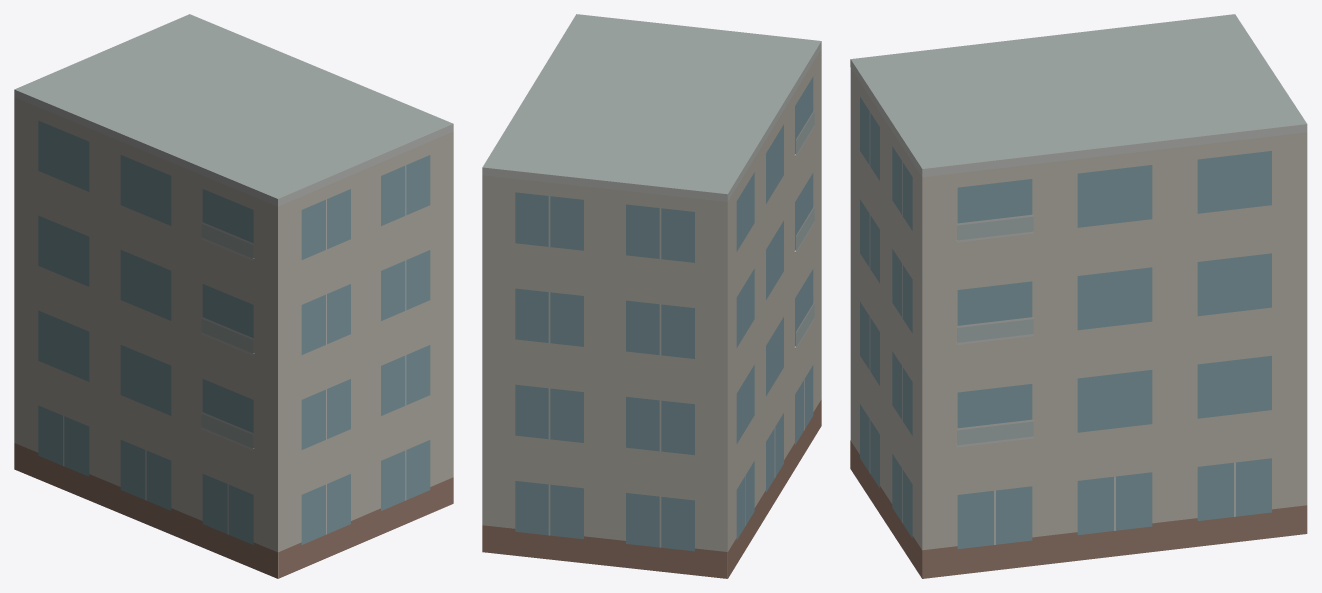
File: residential-12bb2c3c-931e-4e32-857e-e4f4e082f99d.glb
The picture shows the model from 3 angles, left to right: view 1: azimuth 30°, elevation 25°; view 2: azimuth 150°, elevation 25°; view 3: azimuth 270°, elevation 25°; orthographic projection. The views are drawn at different scales.
Visible parts, largest first — view 1: residential-12bb2c3c-931e-4e32-857e-e4f4e082f99d.tmp; view 2: residential-12bb2c3c-931e-4e32-857e-e4f4e082f99d.tmp; view 3: residential-12bb2c3c-931e-4e32-857e-e4f4e082f99d.tmp.
Part boxes in pixels (x1,y1,x2,y2): residential-12bb2c3c-931e-4e32-857e-e4f4e082f99d.tmp: [14, 14, 453, 578]; residential-12bb2c3c-931e-4e32-857e-e4f4e082f99d.tmp: [482, 14, 821, 578]; residential-12bb2c3c-931e-4e32-857e-e4f4e082f99d.tmp: [850, 14, 1307, 578].
Size of the model in its own units: 9.91 by 12.2 by 12.33.
